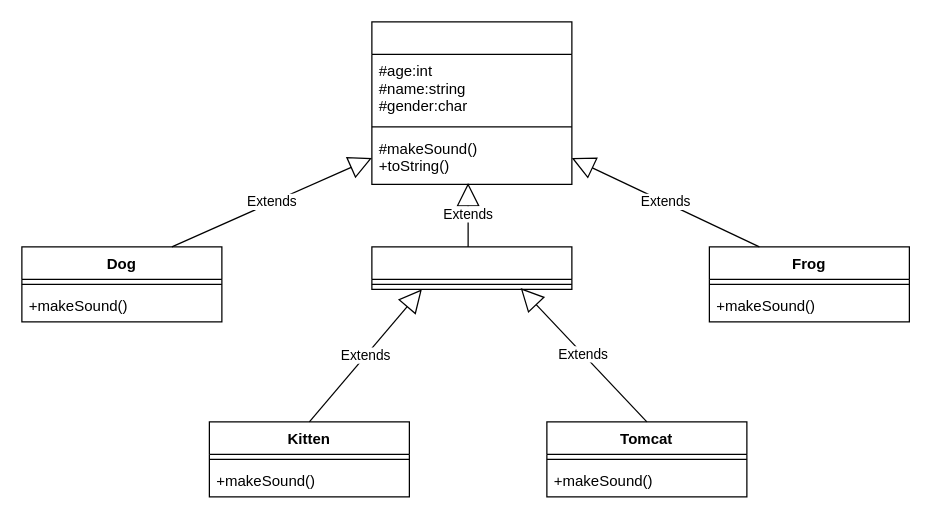
The diagram is 931 pixels wide and 523 high, and some of its shapes have lost their labels. The shapes that lost their labels are listed below. From the top down, each one's box as (x1, y1, x2, y2) in pixels, then its label:
(371, 21, 572, 184): Animal
(371, 246, 572, 289): Cat
